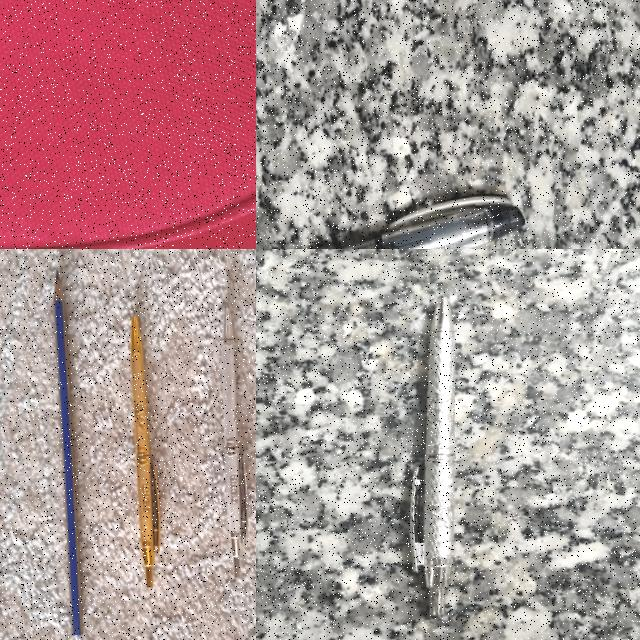pen: (346, 197, 524, 248)
pencil: (44, 280, 96, 640)
signature pen: (410, 296, 454, 615), (122, 305, 165, 576), (221, 307, 248, 576)
